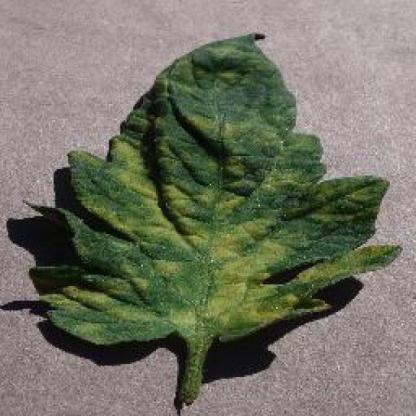Tomato_Leaf_Mold: (42, 32, 402, 342)
